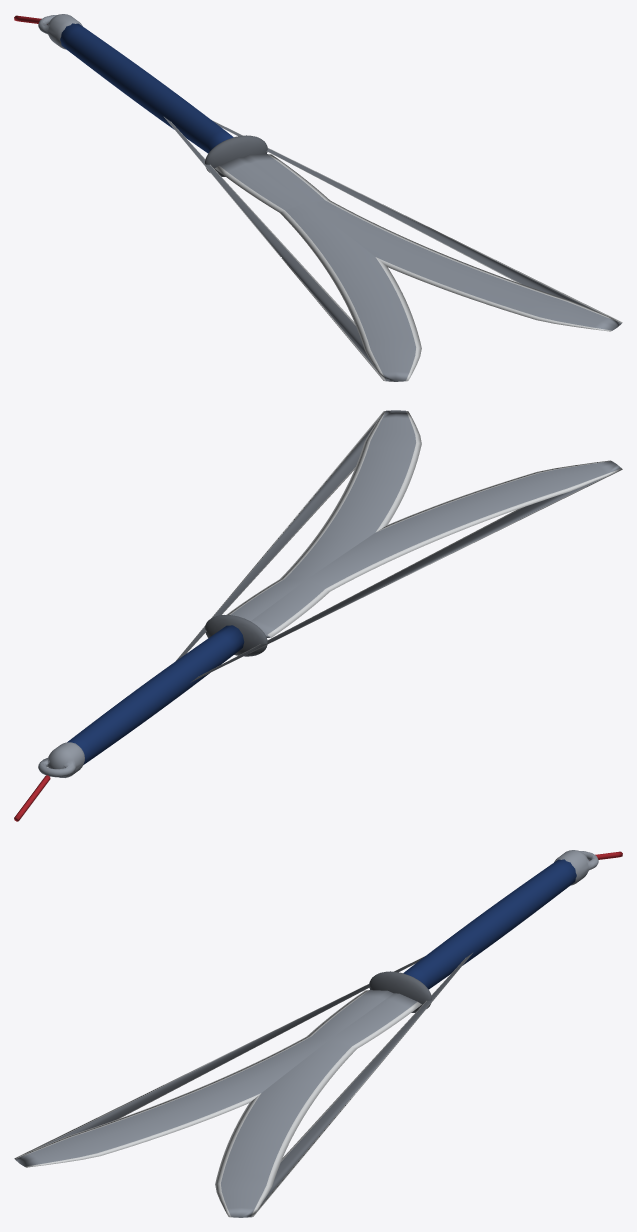
File: dagger.glb
3 renders of one model, top to bottom at view 1: azimuth 30°, elevation 25°; view 2: azimuth 150°, elevation 25°; view 3: azimuth 330°, elevation 25°, orthographic.
Parts seen in each view (by area): view 1: 飞刃, 飞刃L; view 2: 飞刃, 飞刃L; view 3: 飞刃, 飞刃L.
Part boxes in pixels (<box>): 飞刃: <box>14,14,622,331</box>; 飞刃L: <box>14,14,421,381</box>; 飞刃: <box>14,410,421,821</box>; 飞刃L: <box>15,460,622,820</box>; 飞刃: <box>215,850,622,1217</box>; 飞刃L: <box>14,850,622,1167</box>.
Bounding box in the file's own units: 0.2621 × 0.0466 × 0.936.
